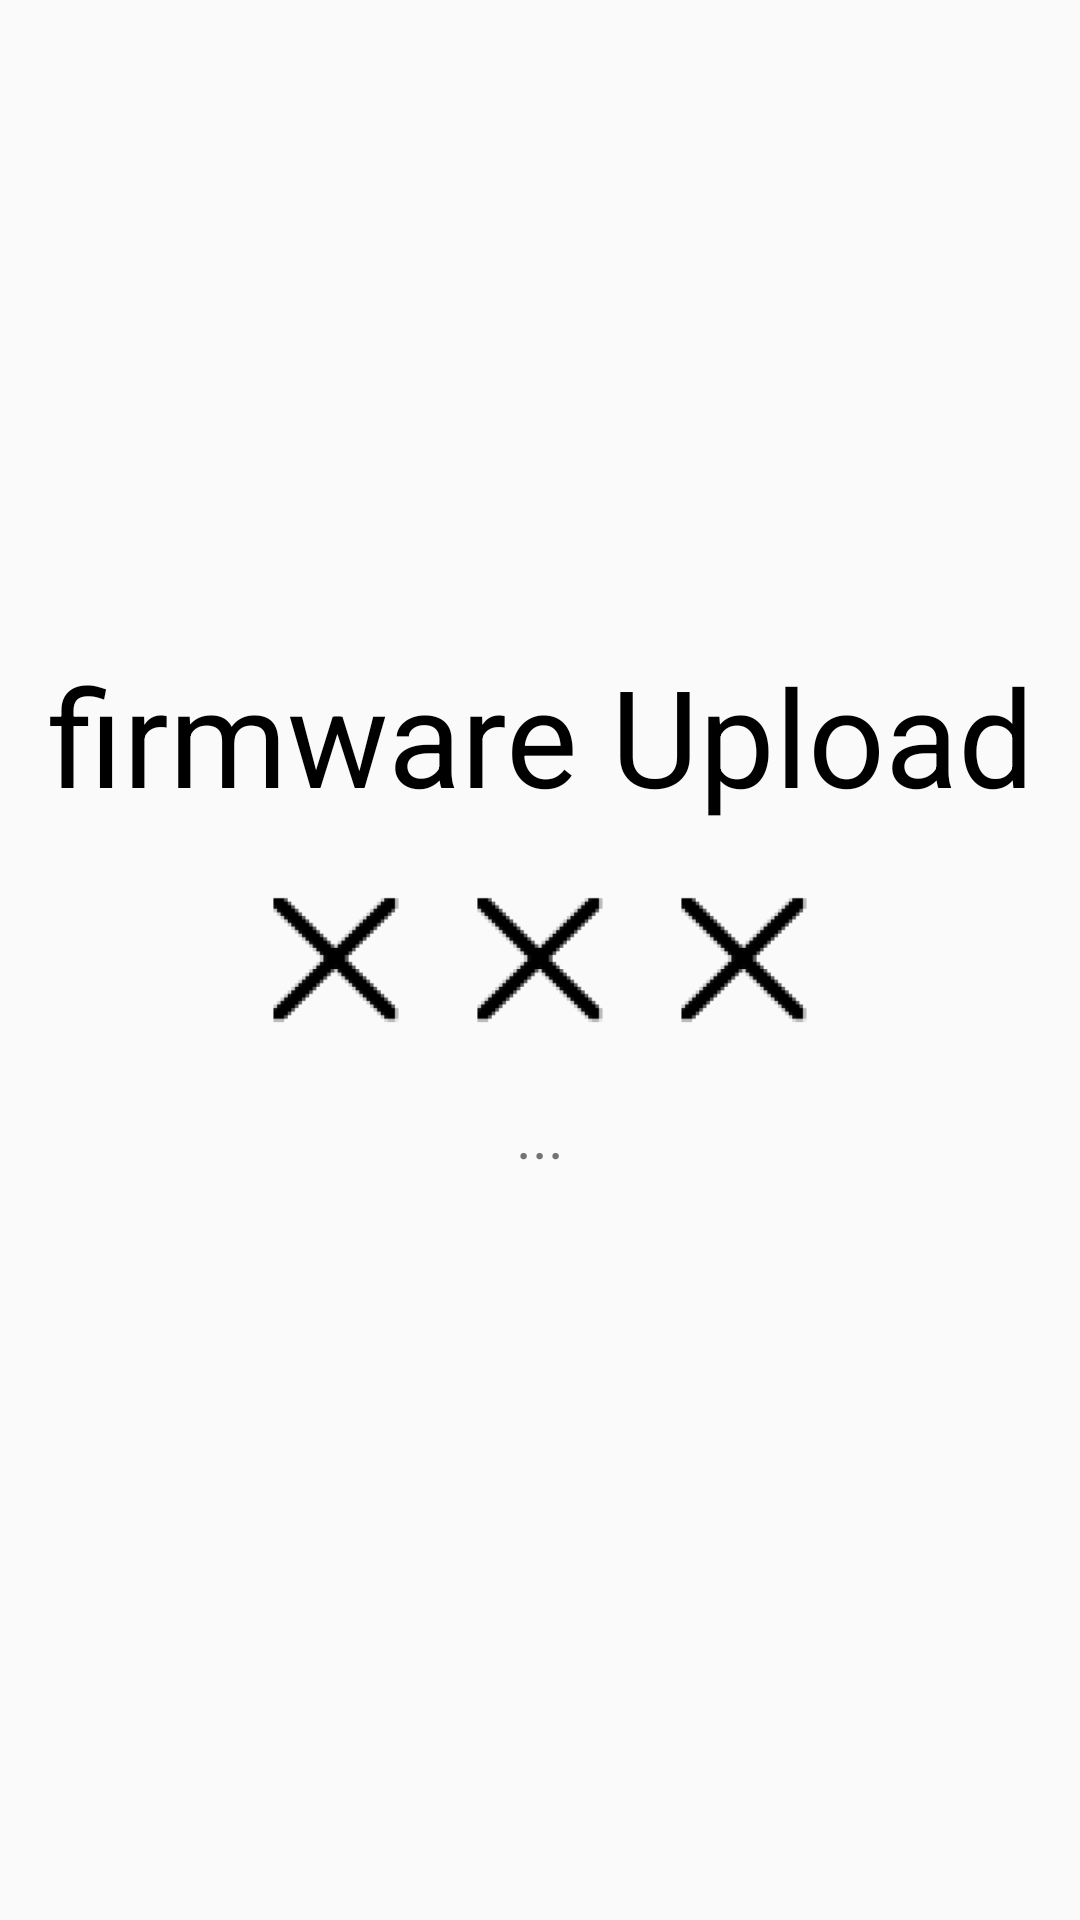

Icons on this 1080x1920 Android screen, each with the point to tap as point (x, y):
cancel: point (336, 960), point (540, 960), point (744, 960)
